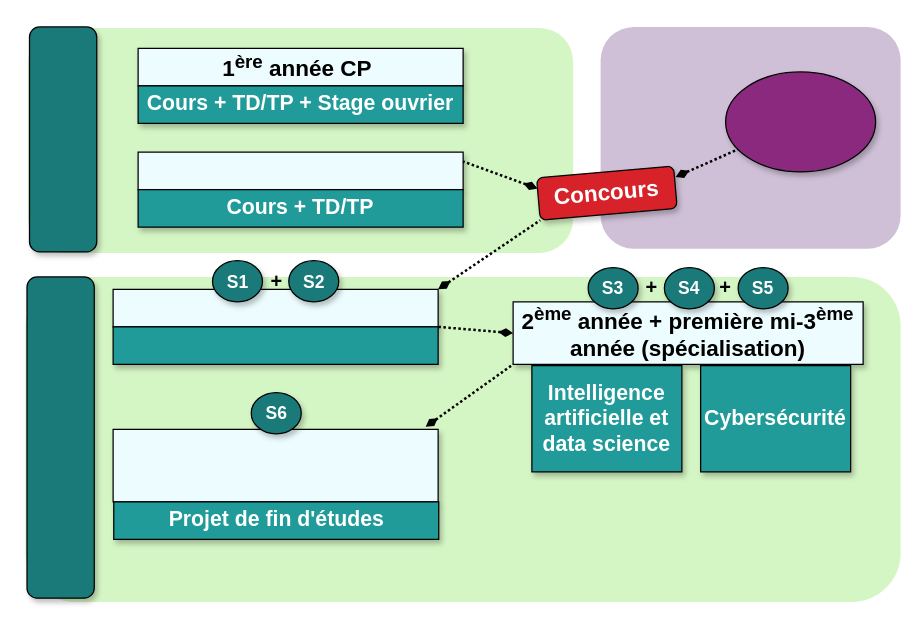
This 923x628 diagram has some shape labels left out. The centre of each missing label's shape, as x and y in pixels:
1 ère année (socle commun): (x=276, y=309)
2 ème année CP: (x=301, y=172)
Accès externe: (x=801, y=123)
Cours + Stage en entreprise: (x=276, y=347)
Cycle préparatoire: (x=64, y=140)
Fin de 3 ème année (spécialisation): (x=276, y=467)
Second cycle: (x=61, y=438)
